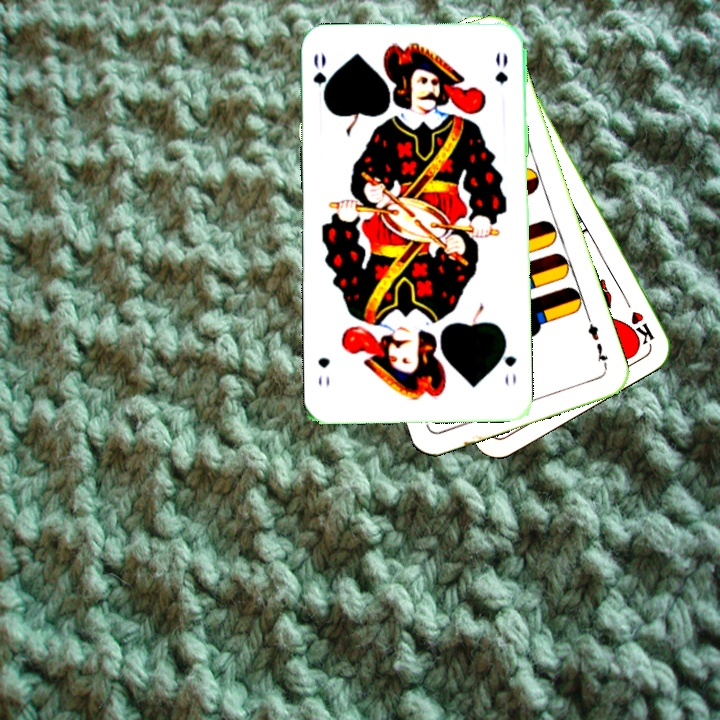E7: (583, 313, 610, 371)
GO: (309, 49, 333, 108), (496, 336, 519, 388)
HK: (618, 290, 657, 346)
